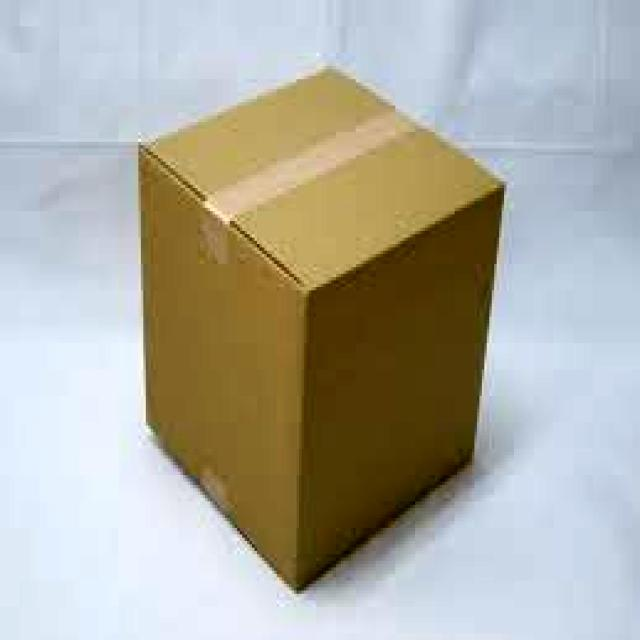Cardboard: (133, 56, 509, 605)
